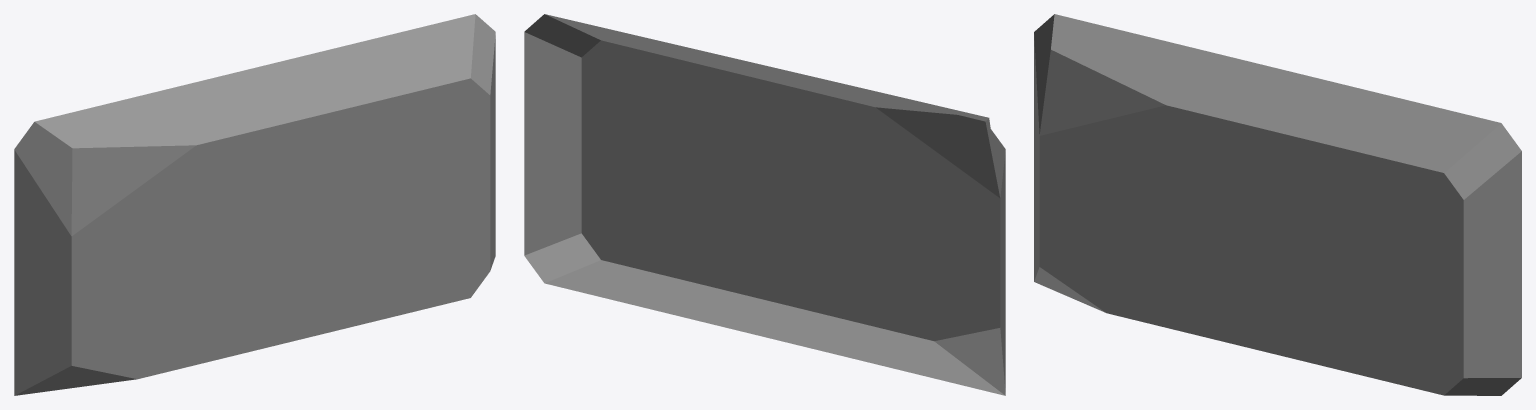
File: stone_item_095.glb
3 views of the same model, side by side, from view 1: azimuth 30°, elevation 25°; view 2: azimuth 150°, elevation 25°; view 3: azimuth 330°, elevation 25° (orthographic).
Visible parts, largest first — view 1: stone_item_095; view 2: stone_item_095; view 3: stone_item_095.
Boxes of the visible parts, x1,y1,x2,y2 form: stone_item_095: [14, 14, 495, 395]; stone_item_095: [524, 14, 1005, 395]; stone_item_095: [1034, 14, 1521, 395].
Bounding box in the file's own units: 0.661 × 0.3534 × 0.0617.
Materials: 1 (1 with a texture image).
